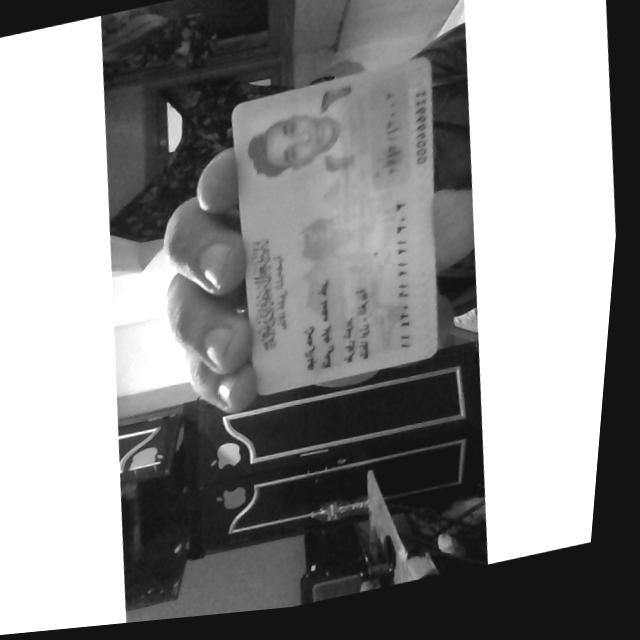id_card: (231, 56, 437, 393)
